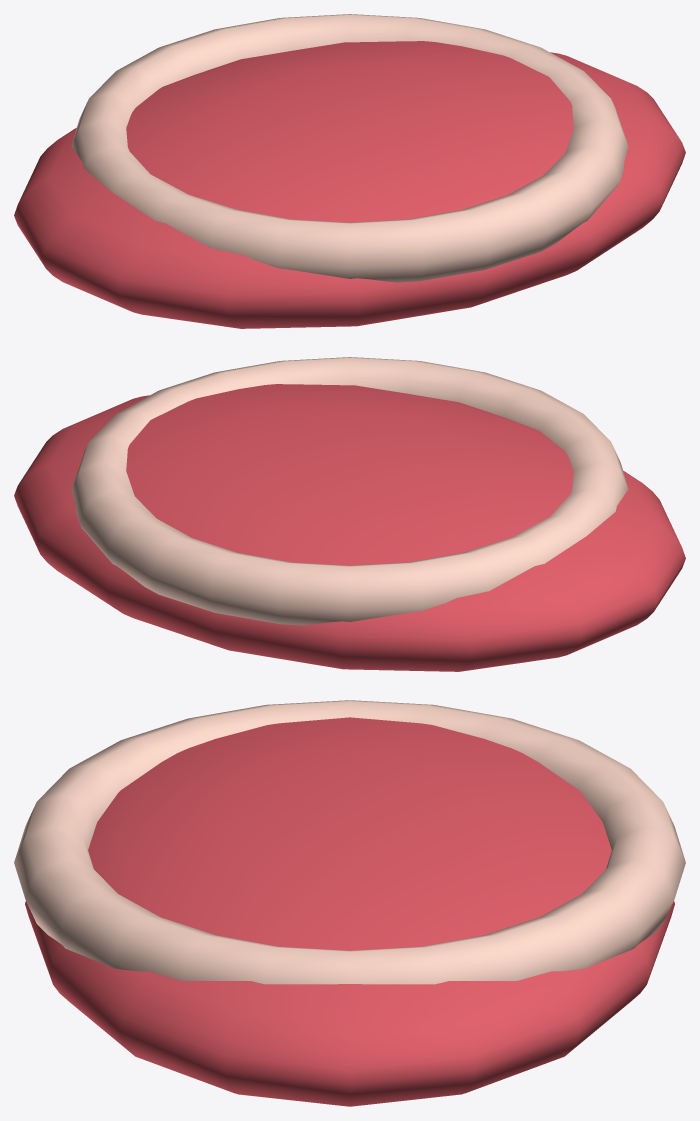
File: MeatRaw.fbx
3 views of the same model, one above another, from view 1: azimuth 30°, elevation 25°; view 2: azimuth 150°, elevation 25°; view 3: azimuth 270°, elevation 25° (orthographic). The views are drawn at different scales.
Visible parts, largest first — view 1: Steak, FatRim; view 2: Steak, FatRim; view 3: Steak, FatRim.
Boxes of the visible parts, x1,y1,x2,y2 form: Steak: [14, 41, 685, 328]; FatRim: [71, 14, 628, 282]; Steak: [14, 384, 685, 671]; FatRim: [71, 357, 628, 625]; Steak: [25, 717, 674, 1106]; FatRim: [14, 700, 685, 984].
Size of the model in its own units: 0.7481 by 0.18 by 0.59.
